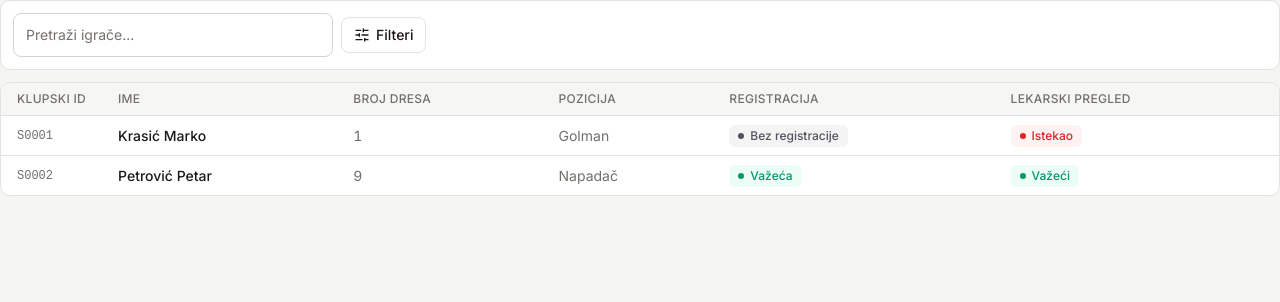
Test case: TeamRoster position filter › clears the position filter with Poništi filtere
The image size is (1280, 302).
Click the button "Filteri" at (384, 35), box [341,17,426,53]
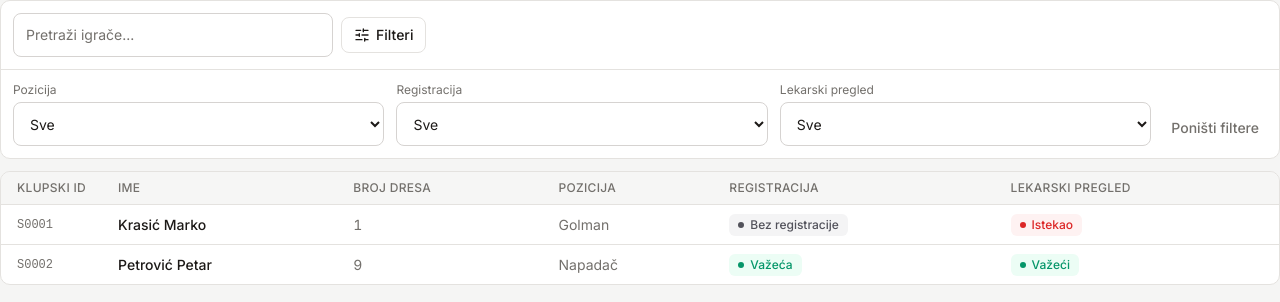
Select "Golman" in the dropdown labelled "Pozicija" at (199, 124), box [13,102,384,146]
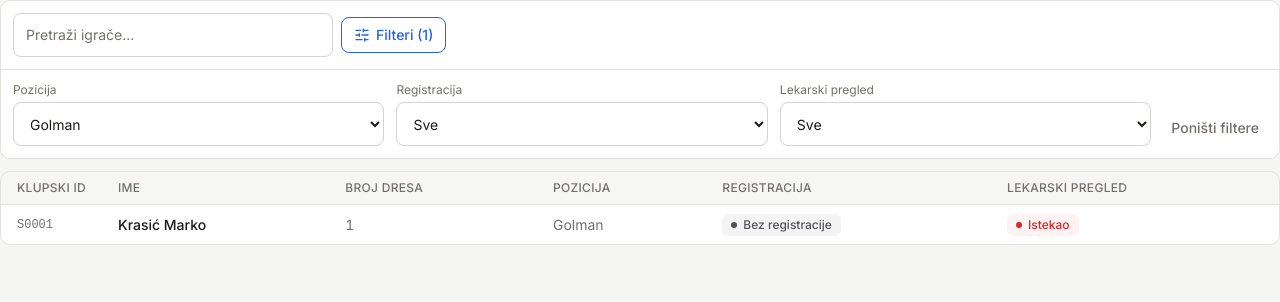
Now no links "Petrović Petar" are shown
Click the button "Poništi filtere" at (1215, 128), box [1163,110,1267,146]
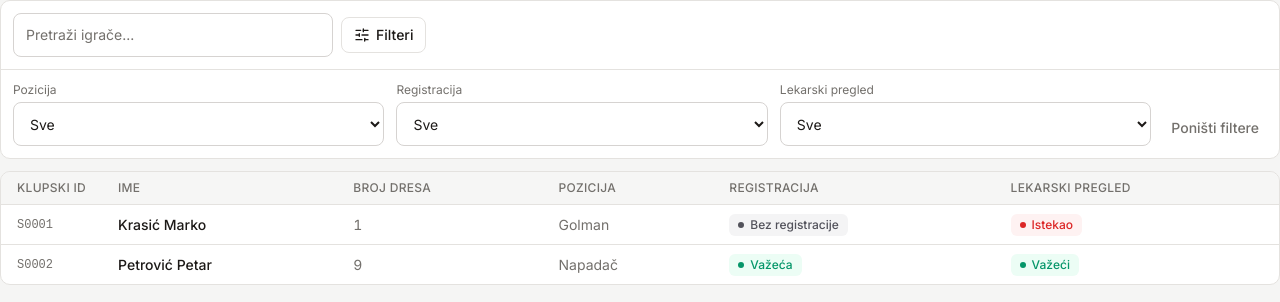
Expected: the link "Krasić Marko" is shown, [118,216,206,232]
Now the link "Petrović Petar" is shown, box [118,256,212,272]
